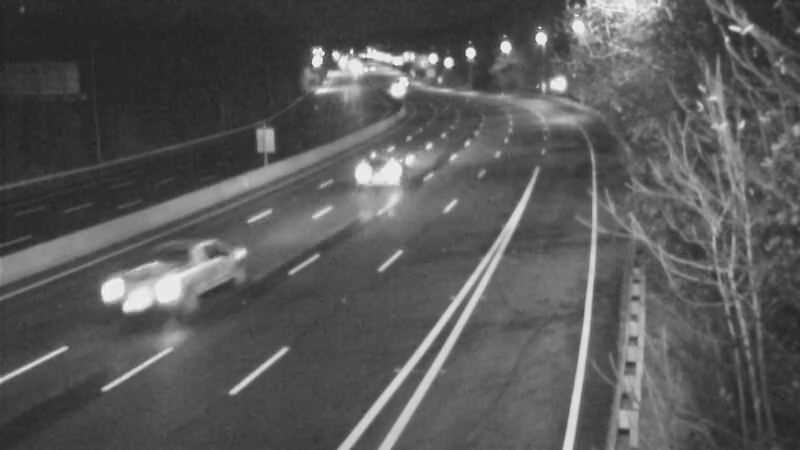vehicle: (336, 124, 416, 204), (109, 251, 189, 331)
